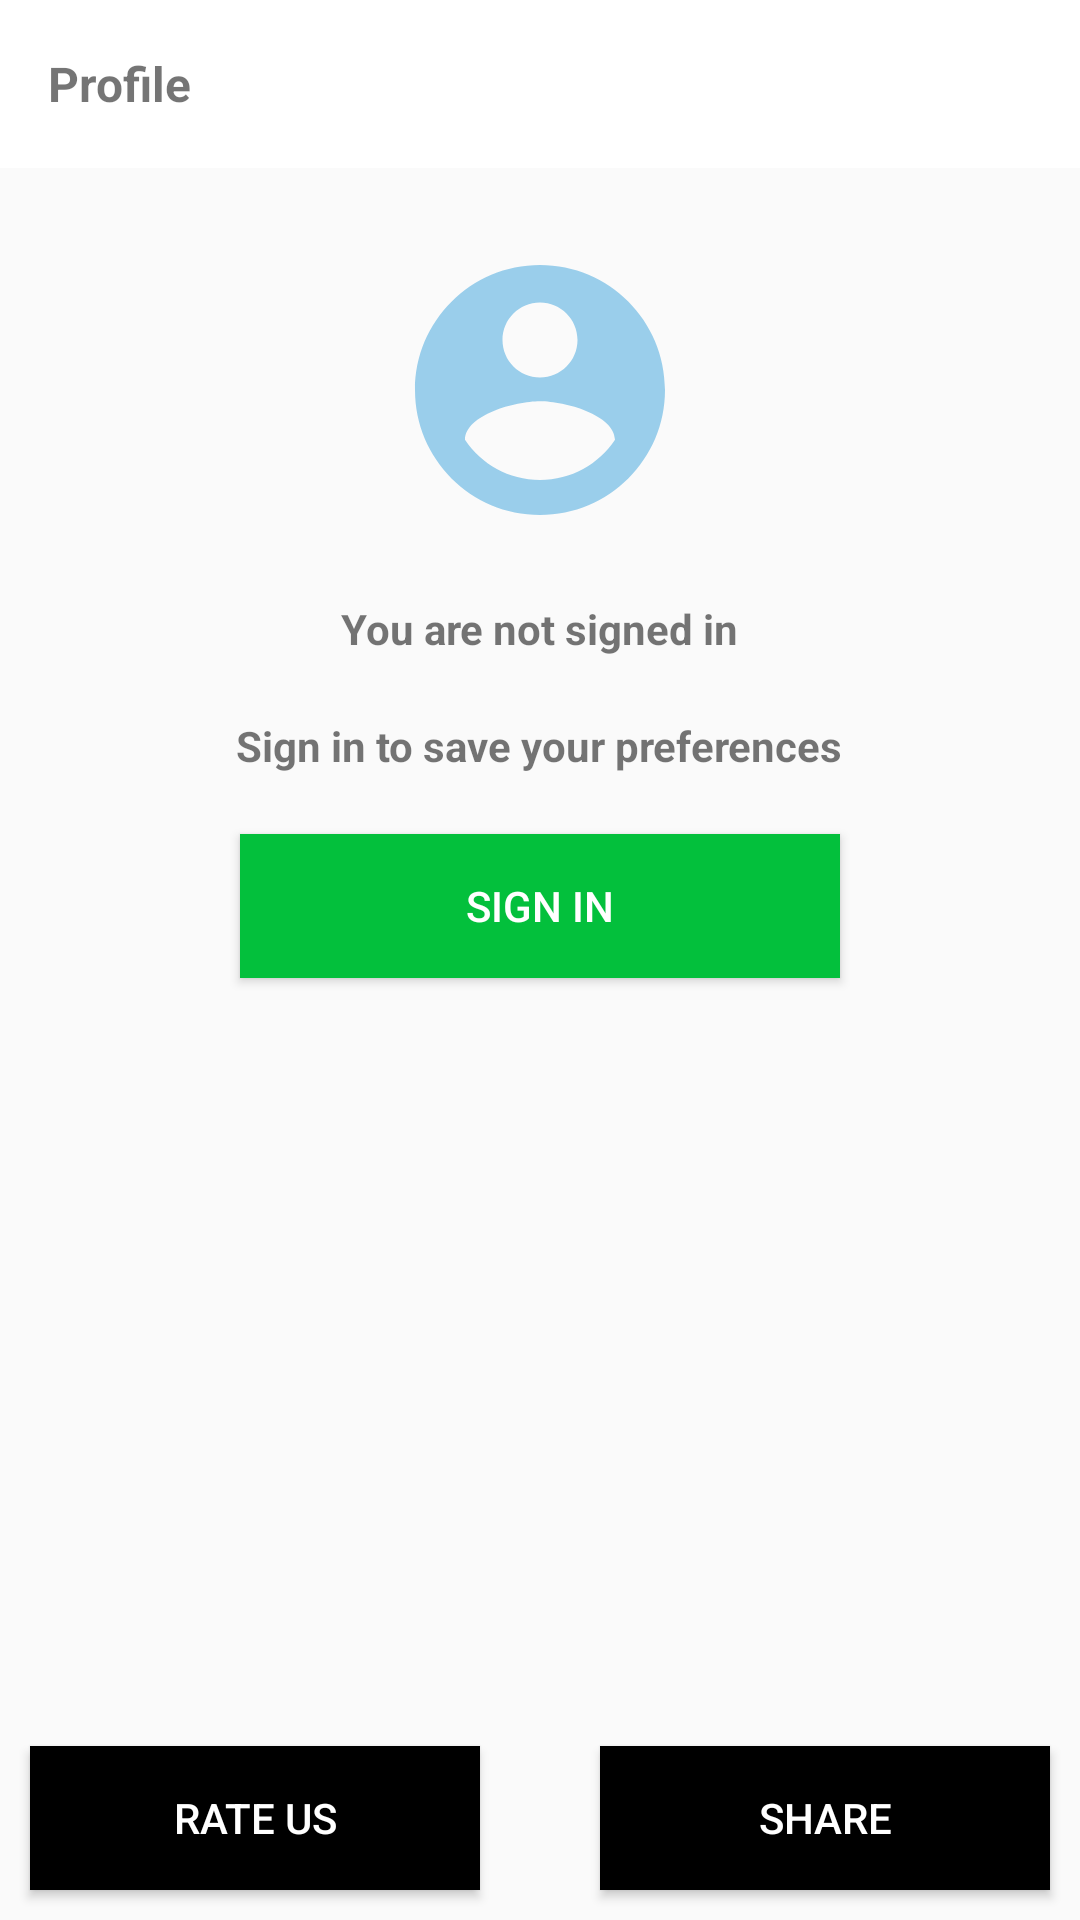

Locate icon controls on the screen. Image size 1080w x 1920h, boxes as (x1, y1, x2, y2).
accout: (415, 265, 665, 515)
